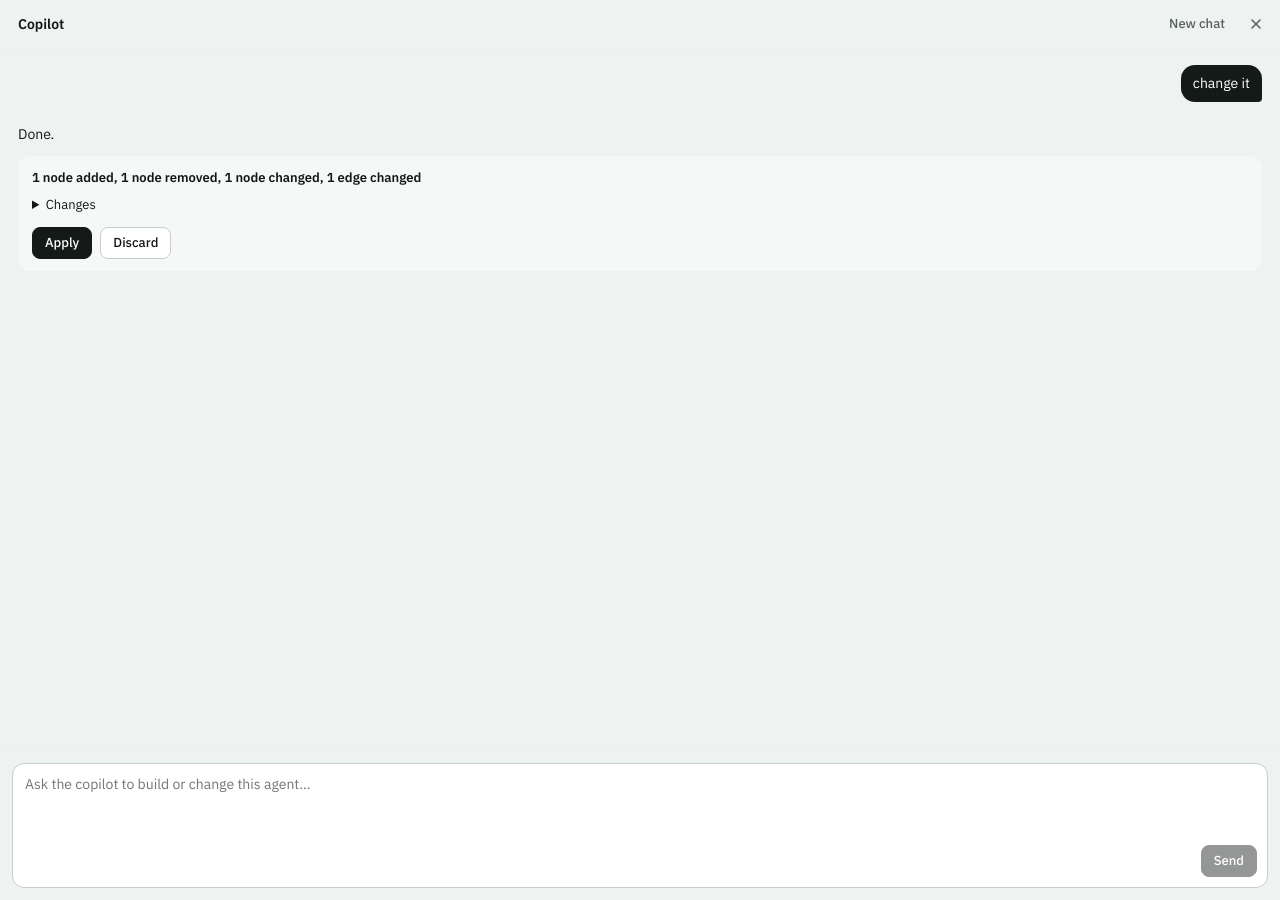
Scenario: ProposalCard › summarizes counts and keeps the Changes list collapsed until opened
This screenshot has width=1280, height=900.
Expected: the text "1 node added, 1 node removed, 1 node changed, 1 edge changed" is shown, 32,169 -> 421,186
Click the heading "Changes" at point(71, 205), box 46,196 -> 96,213
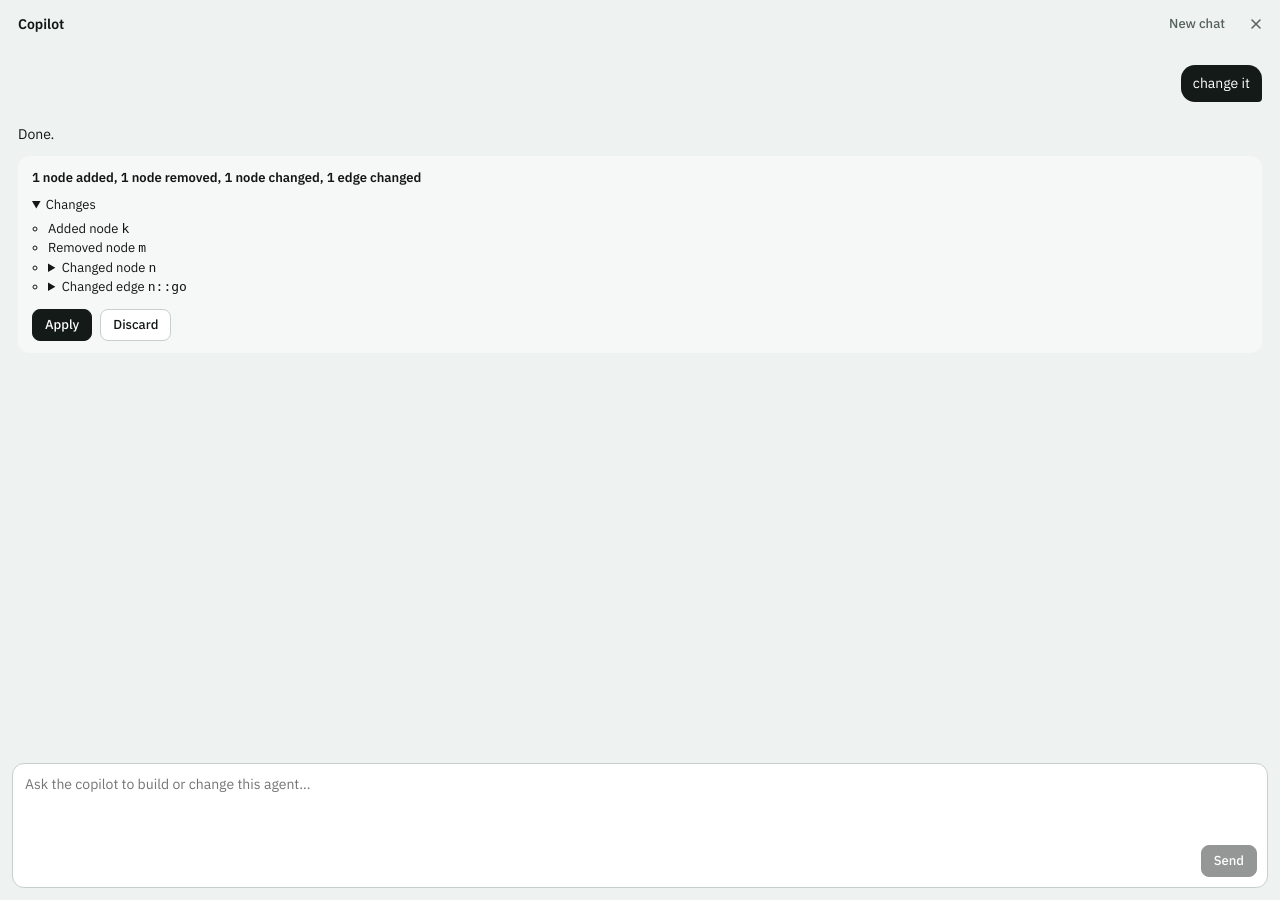
Click the heading "Changed node n" at point(109, 267), box 62,259 -> 156,276
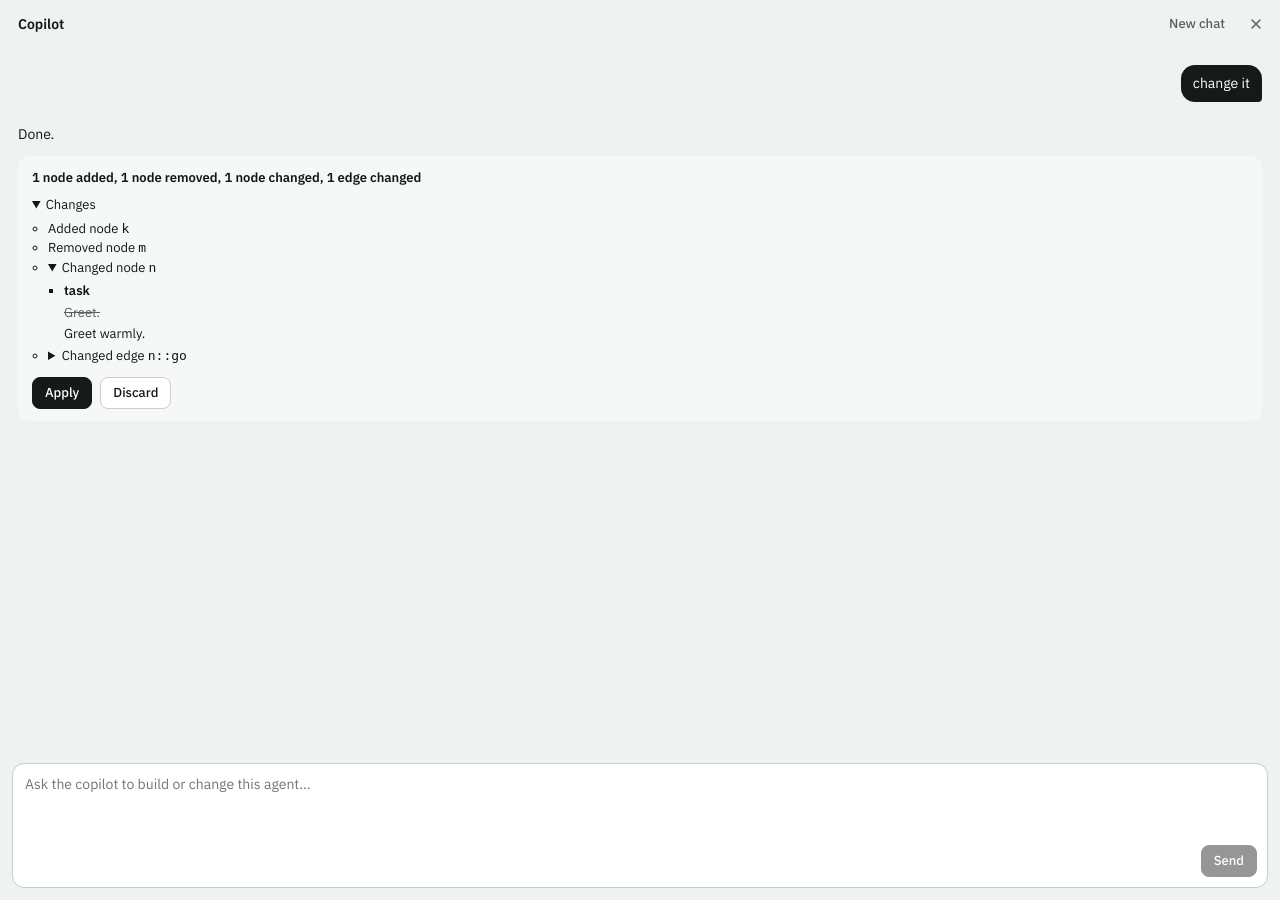
Now the text named "task before" reads "Greet.", box 64,304 -> 100,321
Now the text named "task after" reads "Greet warmly.", box 64,325 -> 145,342
